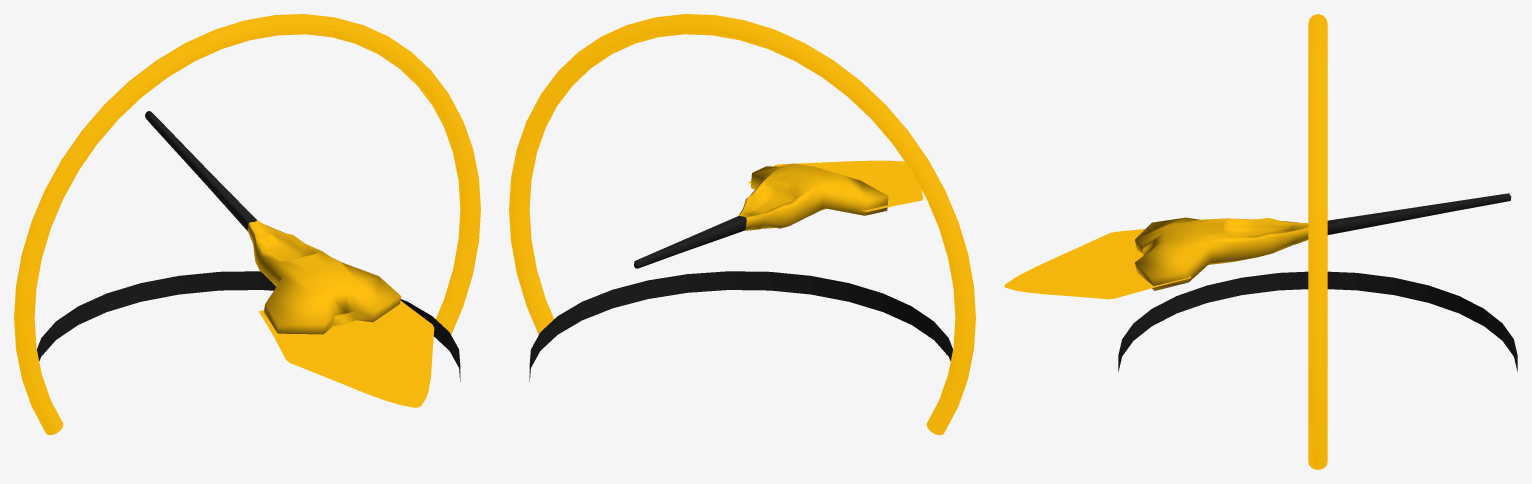
The model's file is GoGoPlasma.glb.
3 renders of one model, left to right at view 1: azimuth 30°, elevation 25°; view 2: azimuth 150°, elevation 25°; view 3: azimuth 270°, elevation 25°, orthographic. The views are drawn at different scales.
Visible parts, largest first — view 1: Torus.001, Gun, Plasma, Circle; view 2: Torus.001, Circle, Gun, Plasma; view 3: Gun, Torus.001, Circle, Plasma.
Boxes of the visible parts, x1,y1,x2,y2 form: Torus.001: (14, 14, 480, 435); Gun: (145, 111, 400, 334); Plasma: (259, 301, 434, 407); Circle: (37, 271, 460, 381); Torus.001: (509, 14, 975, 435); Circle: (529, 271, 952, 381); Gun: (634, 163, 888, 268); Plasma: (748, 160, 923, 211); Gun: (1135, 193, 1511, 290); Torus.001: (1308, 14, 1327, 469); Circle: (1118, 271, 1517, 371); Plasma: (1004, 229, 1190, 299).
Bounding box in the file's own units: 12.98 × 9.74 × 13.29.
